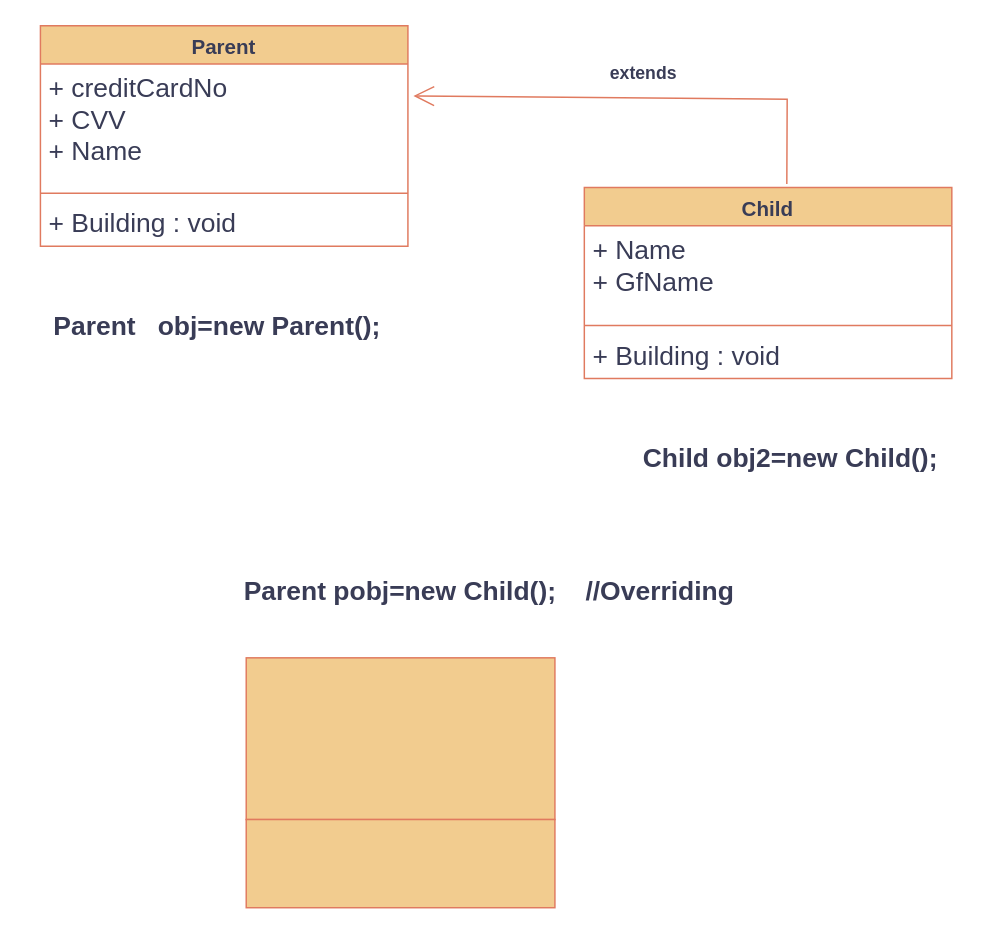
The diagram is 1005 pixels wide and 933 high, and some of its shapes have lost their labels. The shapes that lost their labels are listed below. From the top down, each one's centre as x and y in pixels, then its label:
At point (400, 738): "pObj:Parent + creditCardNo + CVV + Name (updated by child)".
At point (400, 863): "+ Building : void (updated by child)".
